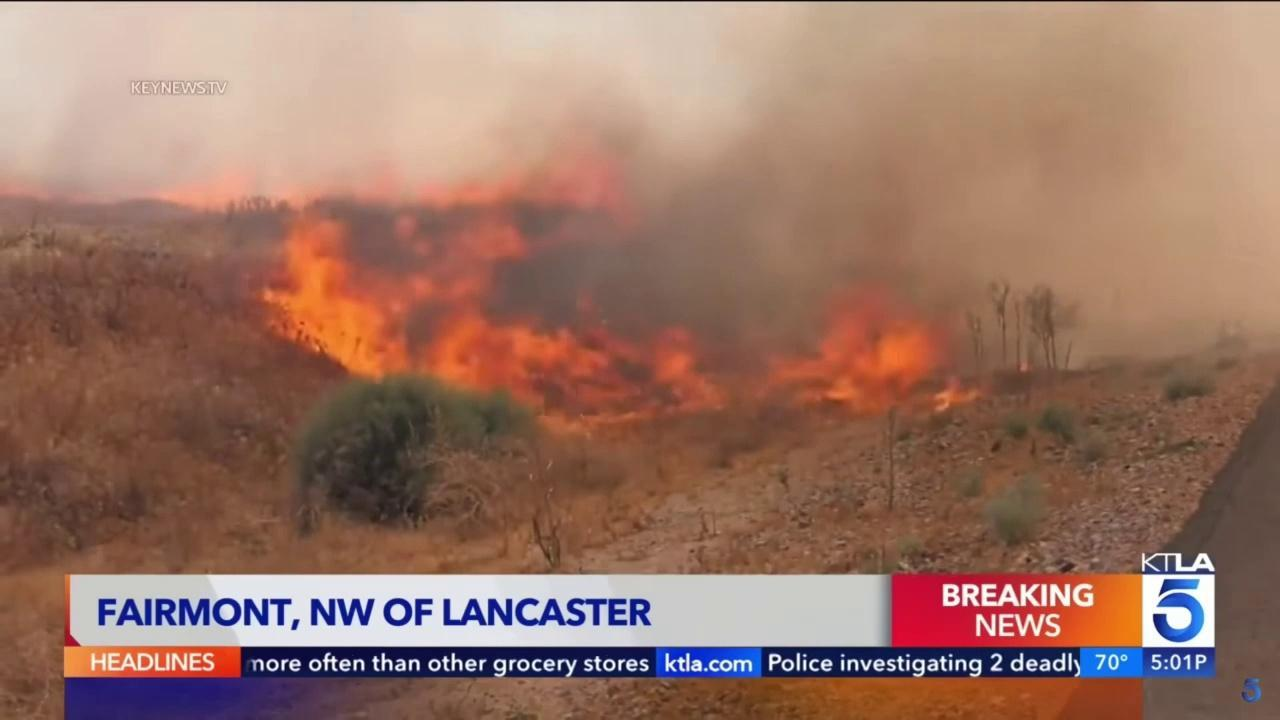fire: (138, 134, 987, 430), (0, 176, 132, 210)
smoke: (0, 0, 1280, 429)
